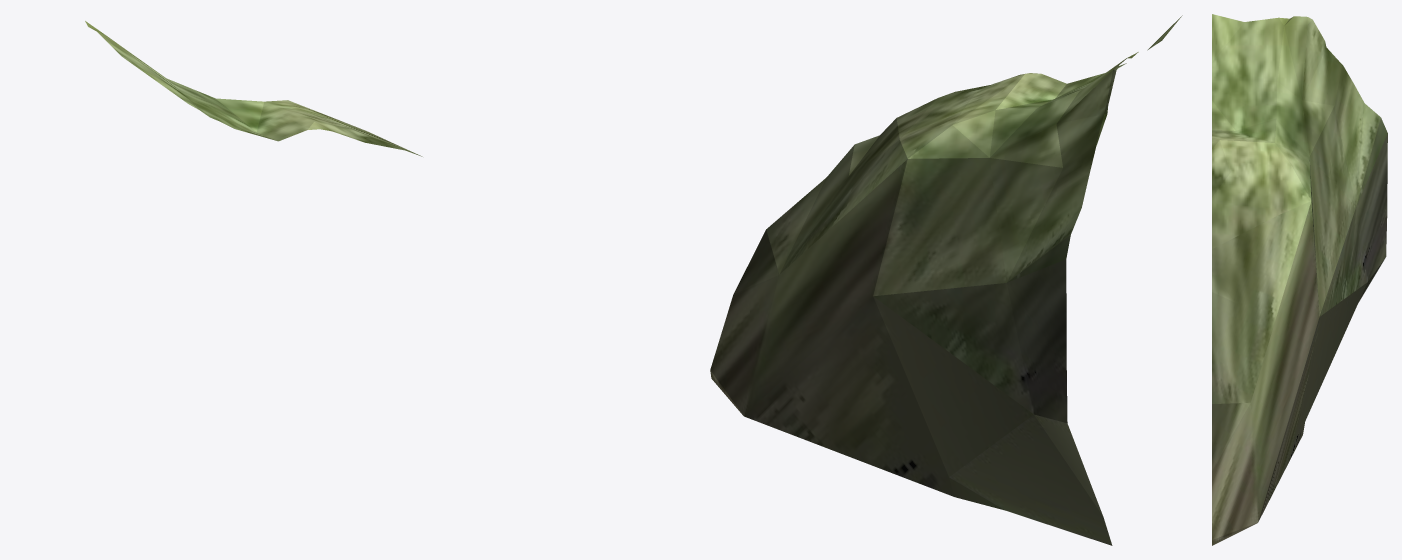
The picture shows the model from 3 angles, left to right: view 1: azimuth 30°, elevation 25°; view 2: azimuth 150°, elevation 25°; view 3: azimuth 270°, elevation 25°; orthographic projection. The views are drawn at different scales.
Bounding box in the file's own units: 2.13 × 2.06 × 0.9133.
2 materials, 2 textured.
